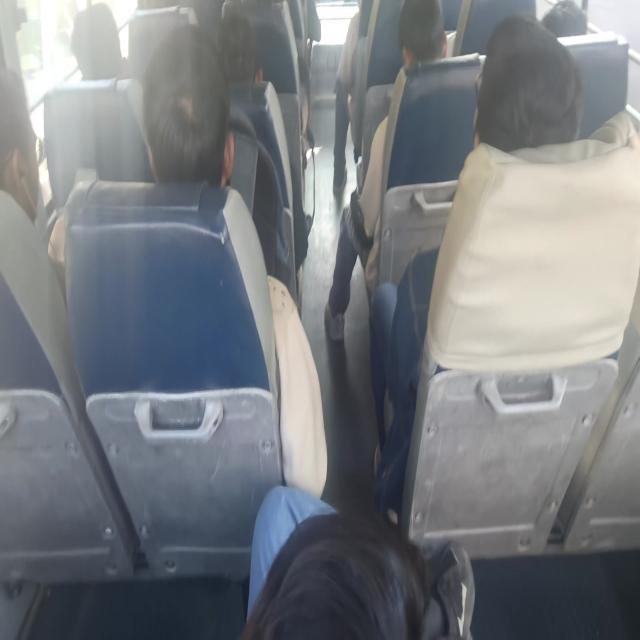person: (255, 510, 484, 640), (479, 31, 583, 199), (150, 36, 242, 178), (0, 61, 42, 217), (56, 0, 137, 79), (208, 21, 262, 86), (388, 0, 450, 56), (545, 2, 597, 40)
